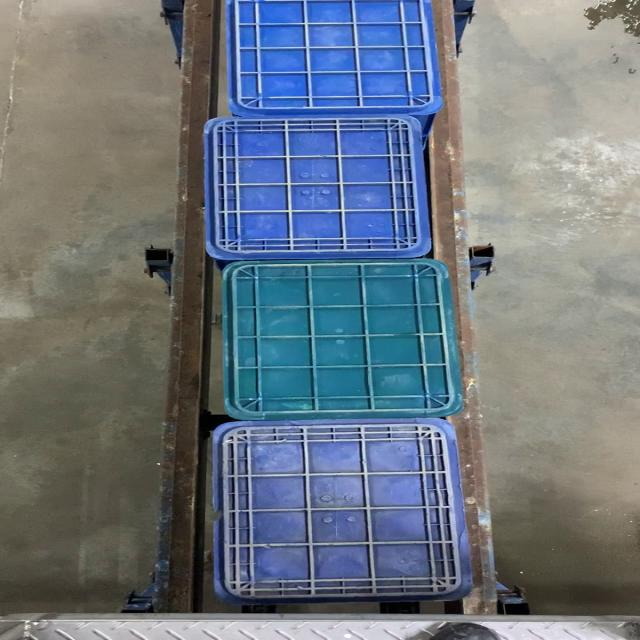Box: (208, 422, 472, 600), (218, 261, 461, 422), (203, 113, 431, 261)
